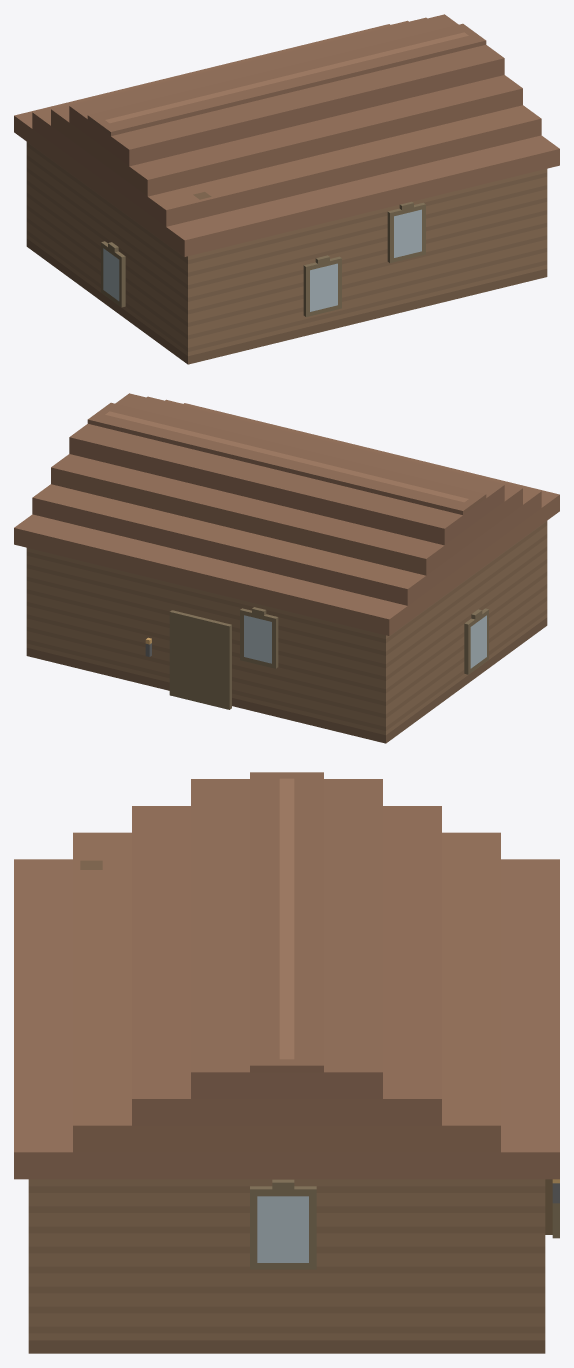
The model's file is planta_curtido_02.glb.
The picture shows the model from 3 angles, top to bottom: view 1: azimuth 30°, elevation 25°; view 2: azimuth 150°, elevation 25°; view 3: azimuth 270°, elevation 25°; orthographic projection. The views are drawn at different scales.
Parts seen in each view (by area): view 1: planta_curtido_02; view 2: planta_curtido_02; view 3: planta_curtido_02.
Boxes of the visible parts, x1,y1,x2,y2 form: planta_curtido_02: (14,14,559,364); planta_curtido_02: (14,393,559,743); planta_curtido_02: (14,772,559,1353).
Size of the model in its own units: 9.4 by 4.4 by 7.4.
